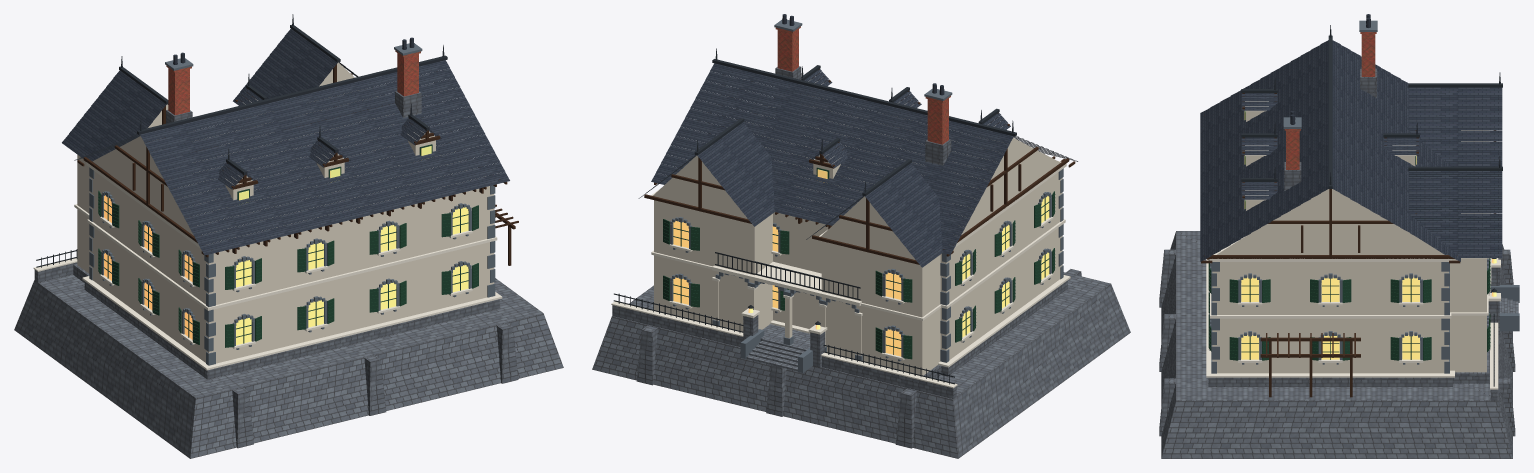
The model's file is fv_sna_06_suong_nguyet_anh_villa_16_brittany_slate.glb.
3 views of the same model, side by side, from view 1: azimuth 30°, elevation 25°; view 2: azimuth 150°, elevation 25°; view 3: azimuth 270°, elevation 25° (orthographic). The views are drawn at different scales.
Parts seen in each view (by area): view 1: Normandy_Brittany_Layered_Roof, Foundation_Skirt_Neg3p5m, Villa_Stucco_Walls, Molded_Cornices_And_Sills, PineGreen_Louvered_Shutters, Stone_Quoins_And_Arches, Warm_Night_Windows_20h00_Blend, Roof_Ridges_Caps_And_Finials, Exposed_Timber_Trusses_And_Rafters, Brick_Chimney_Stacks; view 2: Foundation_Skirt_Neg3p5m, Villa_Stucco_Walls, Normandy_Brittany_Layered_Roof, Molded_Cornices_And_Sills, Stone_Quoins_And_Arches, PineGreen_Louvered_Shutters, Exposed_Timber_Trusses_And_Rafters, Warm_Night_Windows_20h00_Blend, Roof_Ridges_Caps_And_Finials, Wrought_Iron_Balustrades_And_Gate, Brick_Chimney_Stacks; view 3: Normandy_Brittany_Layered_Roof, Foundation_Skirt_Neg3p5m, Villa_Stucco_Walls, Molded_Cornices_And_Sills, Stone_Quoins_And_Arches, Exposed_Timber_Trusses_And_Rafters, PineGreen_Louvered_Shutters, Warm_Night_Windows_20h00_Blend, Roof_Ridges_Caps_And_Finials, Brick_Chimney_Stacks.
Boxes of the visible parts, x1,y1,x2,y2 form: Normandy_Brittany_Layered_Roof: (62, 29, 509, 255); Foundation_Skirt_Neg3p5m: (14, 91, 563, 458); Villa_Stucco_Walls: (77, 62, 494, 363); Molded_Cornices_And_Sills: (33, 96, 502, 370); PineGreen_Louvered_Shutters: (98, 144, 478, 347); Stone_Quoins_And_Arches: (89, 43, 495, 365); Warm_Night_Windows_20h00_Blend: (104, 146, 468, 345); Roof_Ridges_Caps_And_Finials: (74, 14, 447, 182); Exposed_Timber_Trusses_And_Rafters: (77, 64, 518, 265); Brick_Chimney_Stacks: (166, 50, 420, 115); Foundation_Skirt_Neg3p5m: (592, 66, 1130, 458); Villa_Stucco_Walls: (653, 96, 1062, 375); Normandy_Brittany_Layered_Roof: (646, 14, 1013, 267); Molded_Cornices_And_Sills: (611, 80, 1070, 388); Stone_Quoins_And_Arches: (670, 19, 1063, 372); PineGreen_Louvered_Shutters: (663, 167, 1055, 359); Exposed_Timber_Trusses_And_Rafters: (644, 69, 1075, 264); Warm_Night_Windows_20h00_Blend: (673, 169, 1049, 356); Roof_Ridges_Caps_And_Finials: (638, 48, 1077, 239); Wrought_Iron_Balustrades_And_Gate: (613, 252, 954, 384); Brick_Chimney_Stacks: (775, 26, 950, 144); Normandy_Brittany_Layered_Roof: (1200, 14, 1502, 261); Foundation_Skirt_Neg3p5m: (1159, 68, 1518, 458); Villa_Stucco_Walls: (1212, 111, 1486, 373); Molded_Cornices_And_Sills: (1206, 101, 1500, 389); Stone_Quoins_And_Arches: (1209, 20, 1519, 373); Exposed_Timber_Trusses_And_Rafters: (1201, 93, 1495, 397); PineGreen_Louvered_Shutters: (1208, 111, 1490, 360); Warm_Night_Windows_20h00_Blend: (1241, 111, 1496, 359); Roof_Ridges_Caps_And_Finials: (1241, 25, 1502, 188); Brick_Chimney_Stacks: (1284, 32, 1376, 169).
Size of the model in its own units: 26.73 by 20.5 by 21.93.
Materials: 12 (3 with a texture image).
